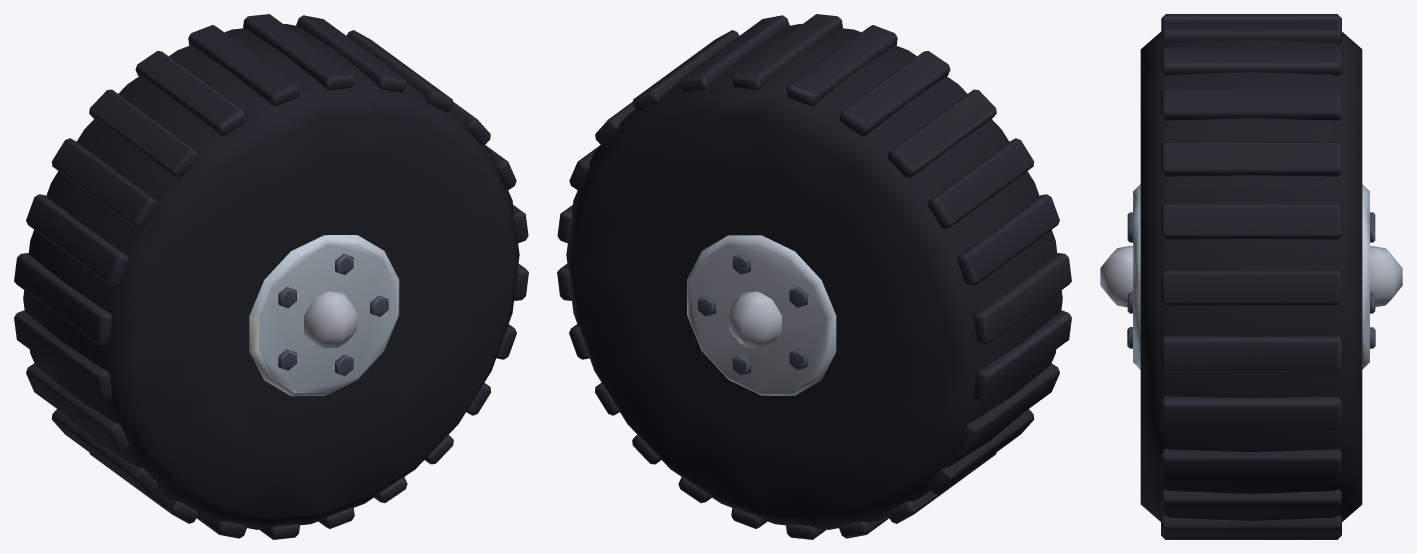
File: SM_Veh_MuscleCar_WheelRear.fbx
The picture shows the model from 3 angles, left to right: view 1: azimuth 30°, elevation 25°; view 2: azimuth 150°, elevation 25°; view 3: azimuth 270°, elevation 25°; orthographic projection. The views are drawn at different scales.
Parts seen in each view (by area): view 1: SM_Veh_MuscleCar_WheelRear; view 2: SM_Veh_MuscleCar_WheelRear; view 3: SM_Veh_MuscleCar_WheelRear.
Boxes of the visible parts, box(x1,y1,x2,y2) form: SM_Veh_MuscleCar_WheelRear: box(14, 14, 528, 539); SM_Veh_MuscleCar_WheelRear: box(557, 14, 1071, 539); SM_Veh_MuscleCar_WheelRear: box(1100, 14, 1402, 539).
Bounding box in the file's own units: 75.79 × 75.76 × 43.67.
